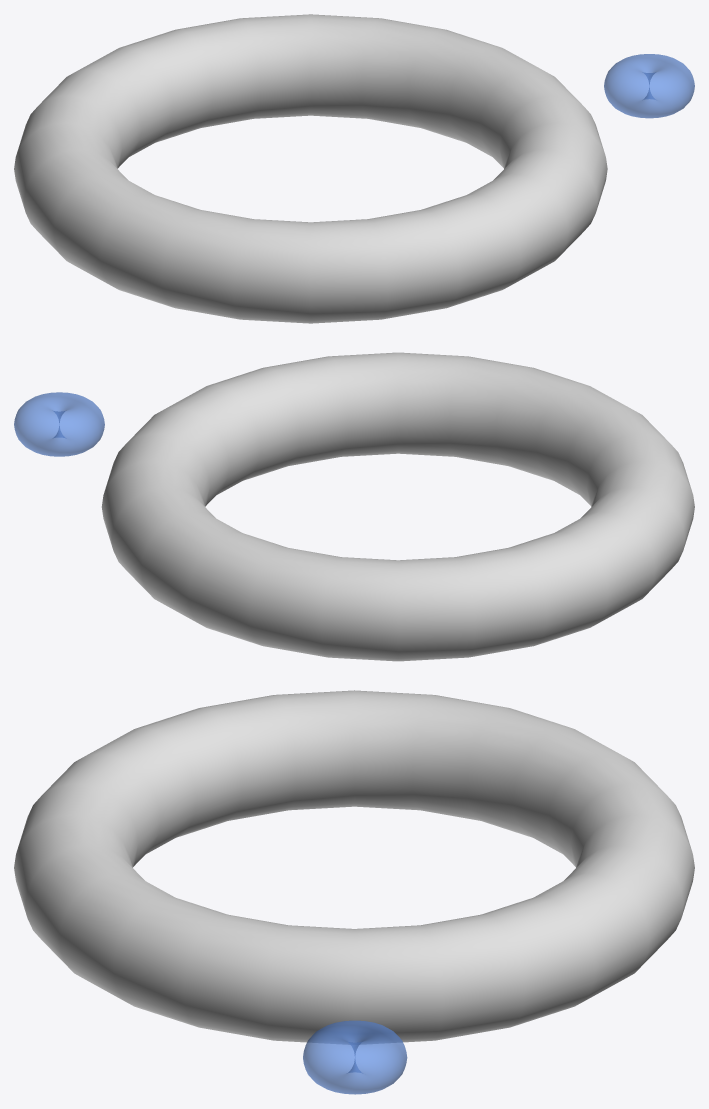
3 views of the same model, one above another, from view 1: azimuth 30°, elevation 25°; view 2: azimuth 150°, elevation 25°; view 3: azimuth 270°, elevation 25° (orthographic). The views are drawn at different scales.
Parts seen in each view (by area): view 1: Model; view 2: Model; view 3: Model.
Part boxes in pixels (left/top/right/bottom): Model: left=14, top=14, right=694, bottom=323; Model: left=14, top=352, right=694, bottom=661; Model: left=14, top=690, right=694, bottom=1094.
Bounding box in the file's own units: 3456 × 2797 × 479.
